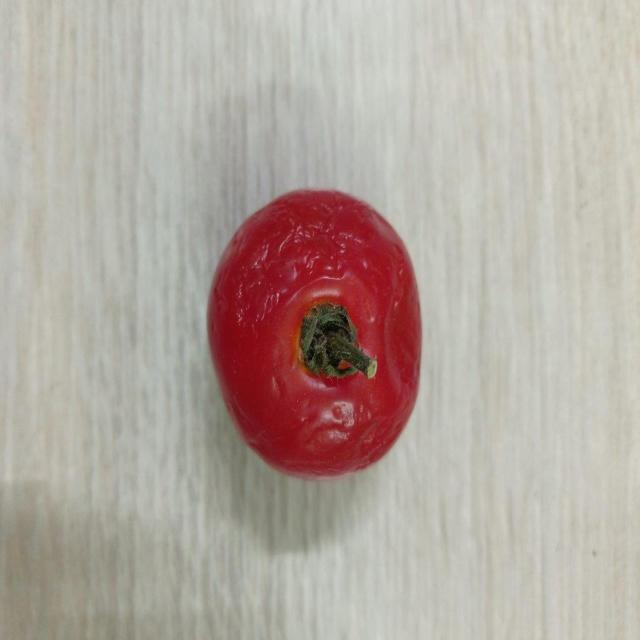overripe: (206, 184, 425, 476)
